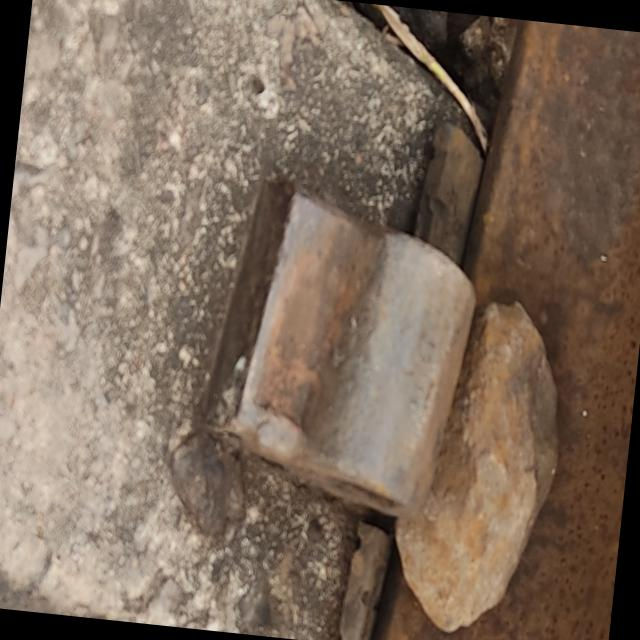track_bolt_missing: (307, 220, 486, 528)
